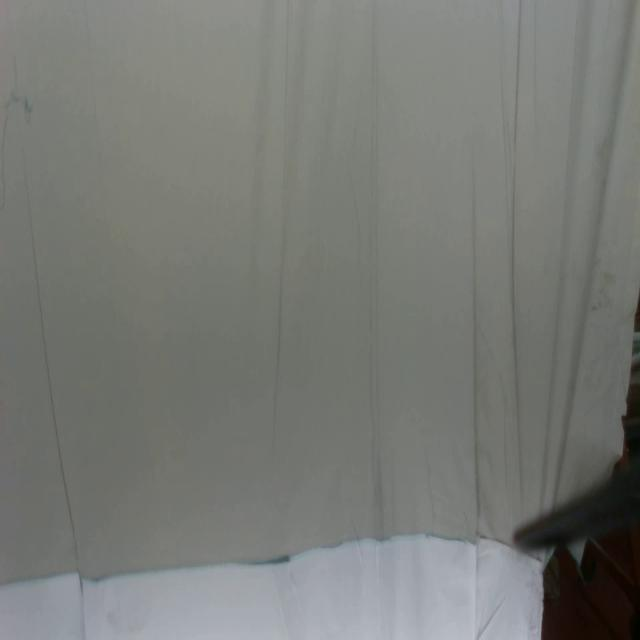crease: (26, 175, 80, 572), (510, 0, 524, 500), (370, 9, 383, 536), (272, 263, 284, 443)
